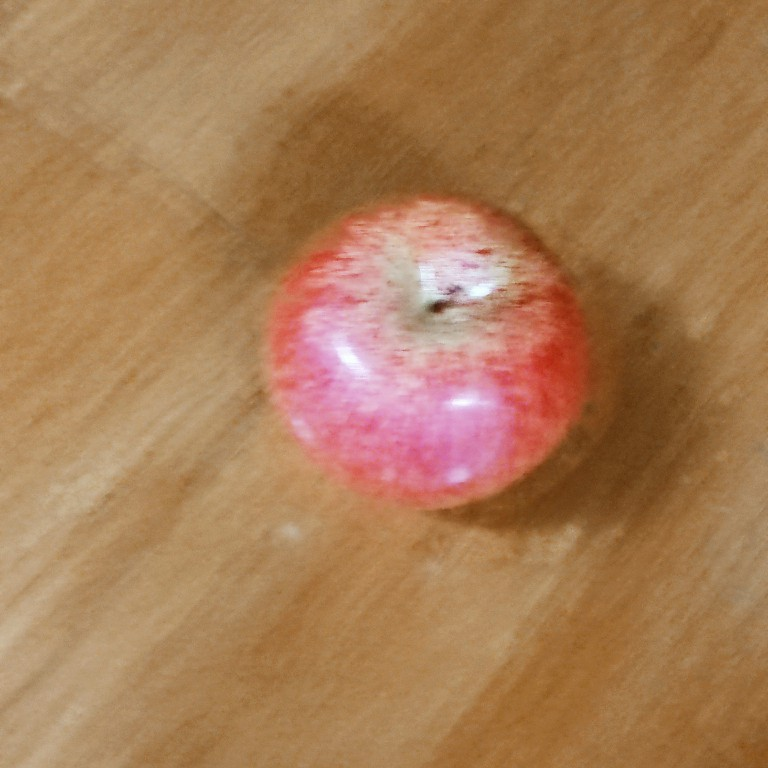fruit_apple: (256, 182, 597, 516)
